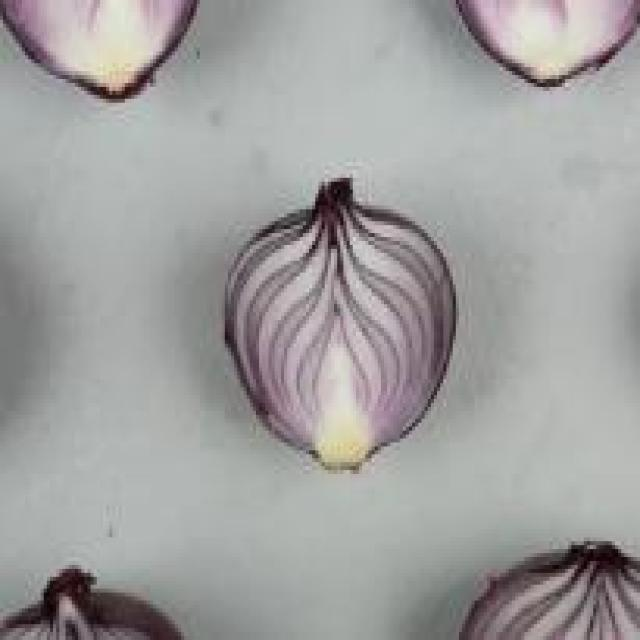Onion: (223, 170, 454, 470), (4, 0, 204, 103), (462, 529, 640, 640), (456, 2, 640, 101), (0, 545, 187, 640)
